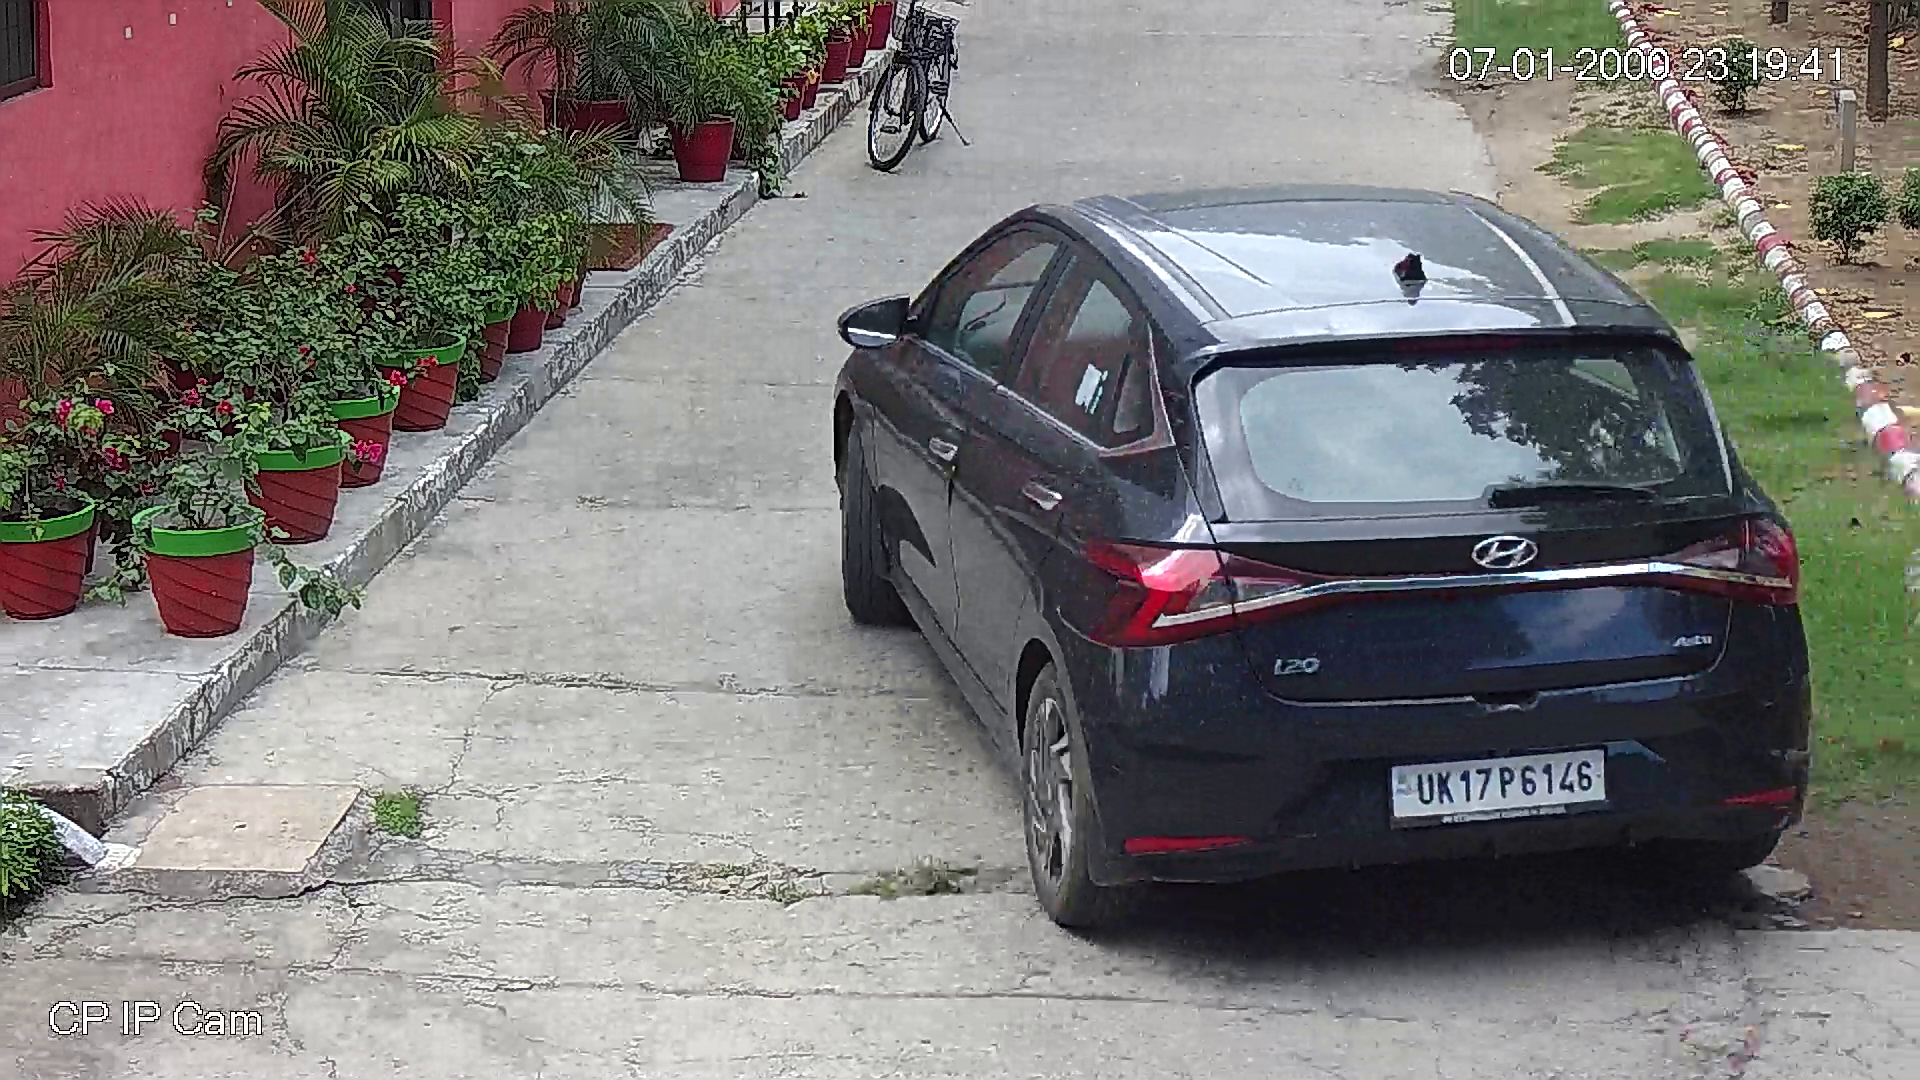plate: (1385, 740, 1611, 820)
